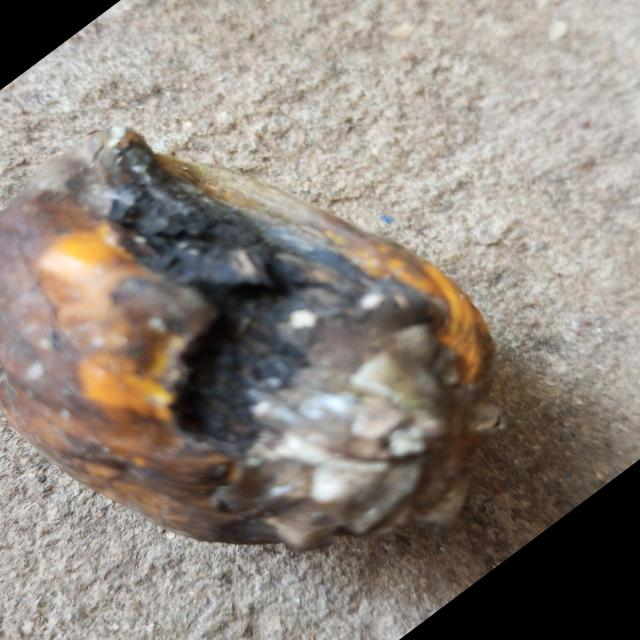damaged: (0, 126, 500, 550)
